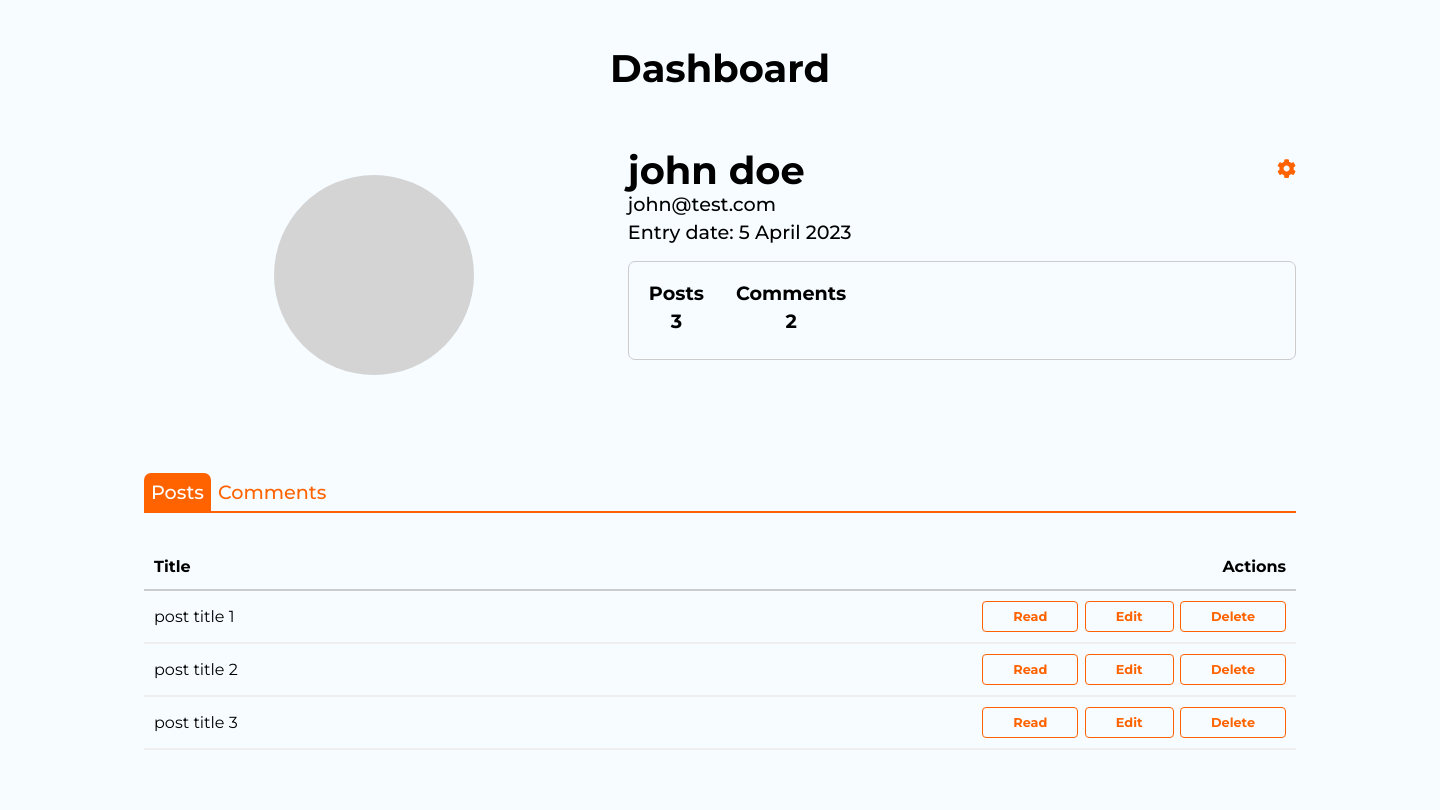
<Dashboard/> › Functionality › should change view option on button click
Expected: the text "post title 1" is shown 3 times, [154,607,234,626]; [154,660,238,679]; [154,713,238,732]
change dashboard view option
Click the text named "View Option". click: (272, 492)
box: [211,473,333,511]
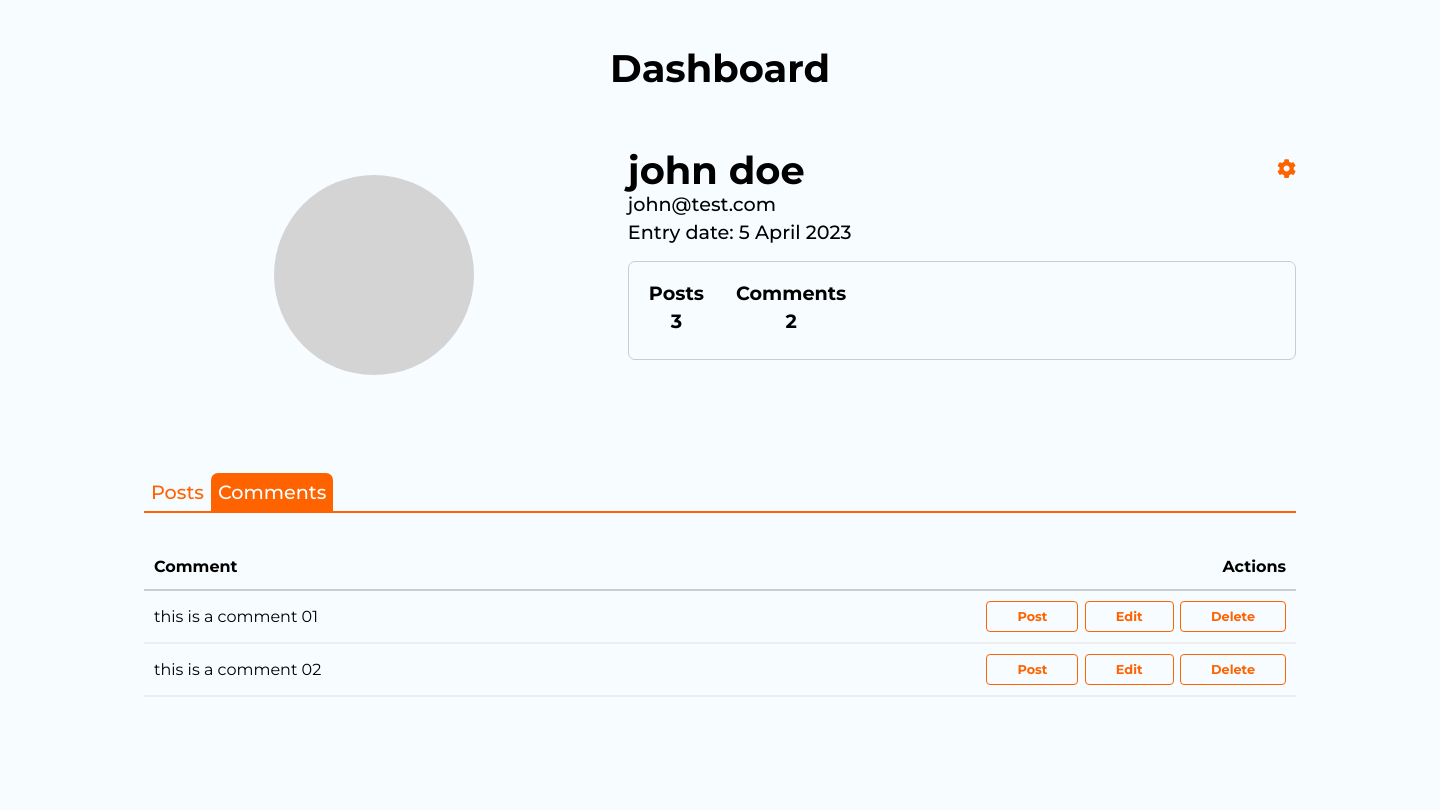
Now the text "this is a comment 01" is shown 2 times, box [154,607,318,626]; [154,660,321,679]
